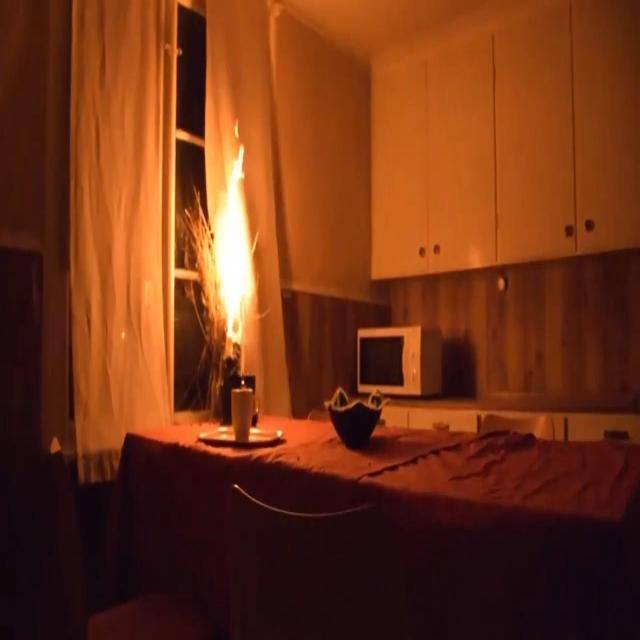fire: (201, 111, 275, 367)
